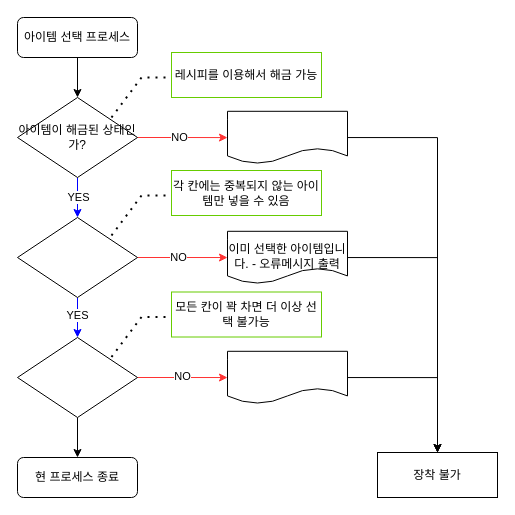
This 515x515 diagram has some shape labels left out. The shapes that lost their labels are listed below. From the top down, each one's centre as x and y in pixels, then its label:
the point at 287,137: 이전 던전을 클리어 하십시오 - 오류메시지 출력
the point at 77,257: 이미 선택한 아이템인가?
the point at 77,377: 아이템 슬롯에 빈칸이 있는가?
the point at 287,377: 칸이 꽉 찼습니다. - 오류메시지 출력
